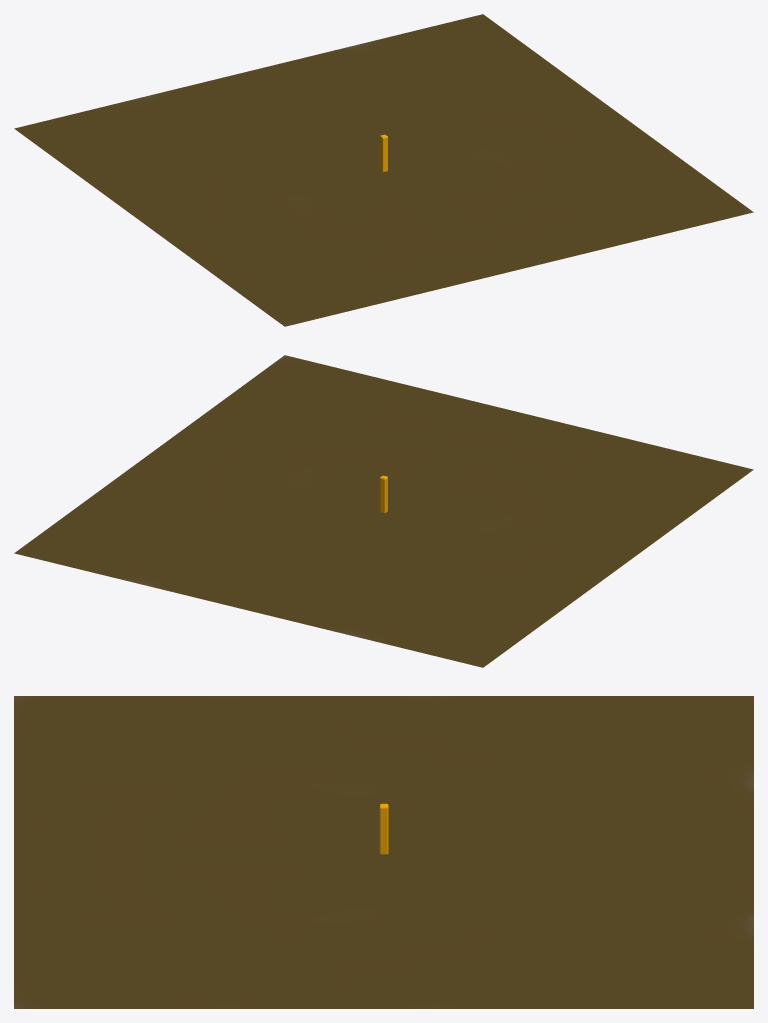
Rendered from mapa.glb.
3 views of the same model, one above another, from view 1: azimuth 30°, elevation 25°; view 2: azimuth 150°, elevation 25°; view 3: azimuth 270°, elevation 25° (orthographic). The views are drawn at different scales.
Visible parts, largest first — view 1: Plano; view 2: Plano; view 3: Plano.
Boxes of the visible parts, left/top/right/bottom form: Plano: left=14, top=14, right=753, bottom=326; Plano: left=14, top=355, right=753, bottom=667; Plano: left=14, top=696, right=753, bottom=1008.
Bounding box in the file's own units: 116 × 8.64 × 116.
